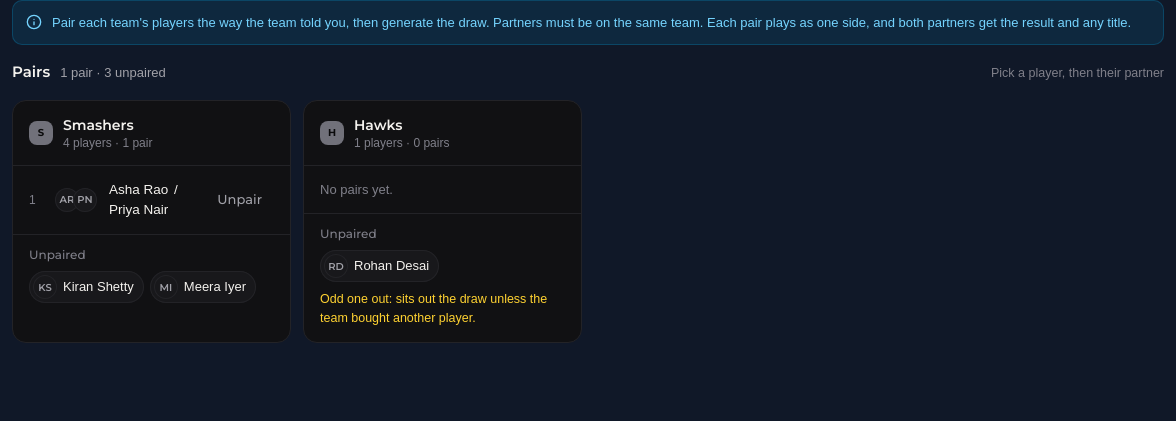
it: PairingPanel › shows the server's message when a write is refused
Click the button "KS Kiran Shetty" at {"x": 86, "y": 287}, box [29, 271, 144, 303]
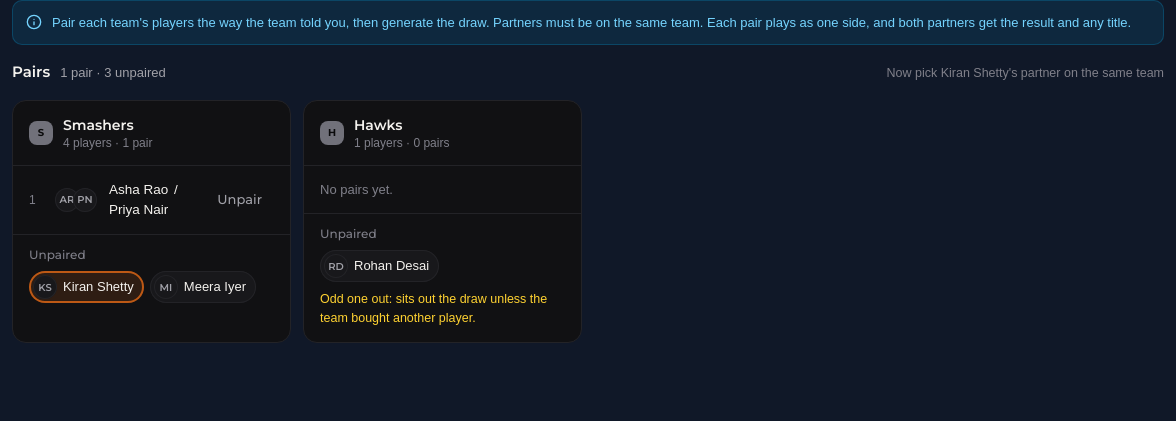
Click the button "MI Meera Iyer" at {"x": 203, "y": 287}, box [150, 271, 256, 303]
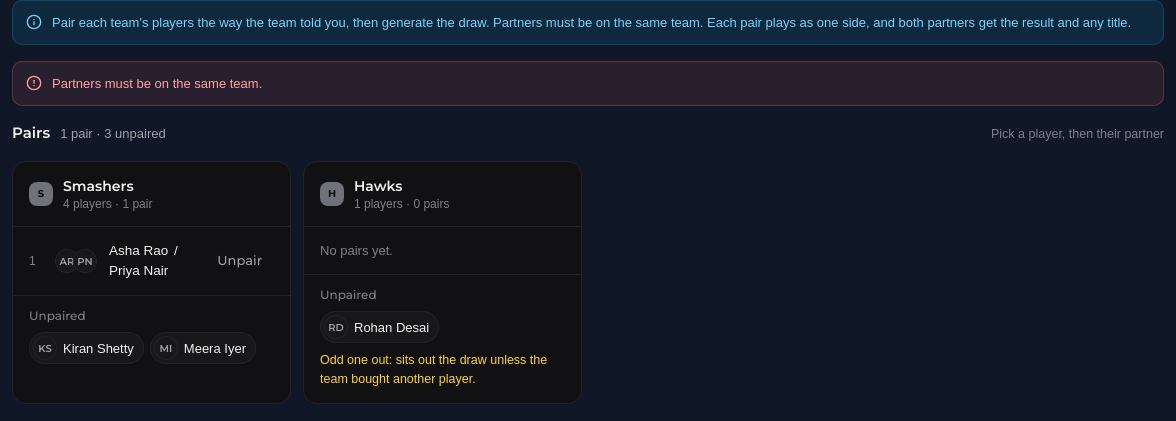
expect the message reads "Partners must be on the same team.": met, box [52, 76, 262, 91]
